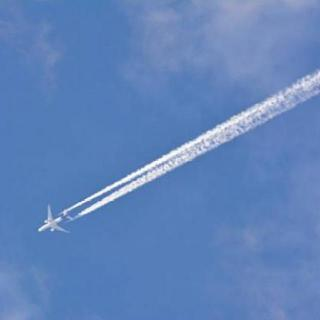Contrails: (65, 68, 320, 223)
